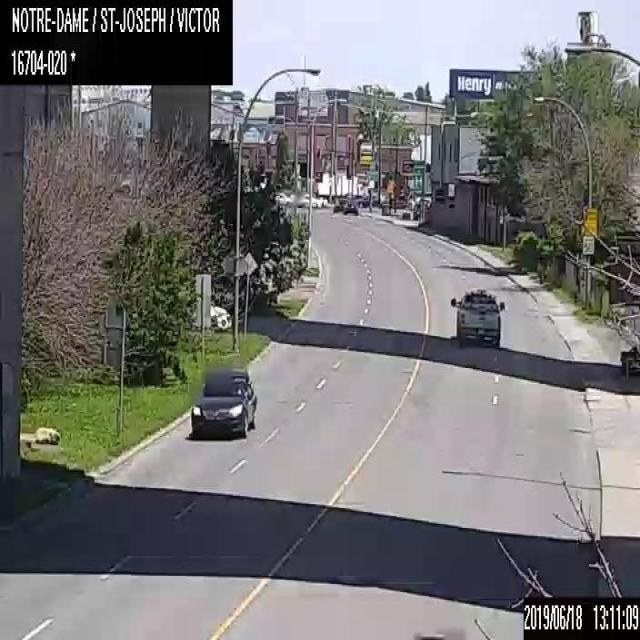construction: (605, 228, 639, 376)
vehicle: (190, 369, 256, 438), (450, 287, 505, 348), (304, 193, 320, 206), (343, 201, 357, 213), (279, 192, 292, 204), (332, 203, 343, 212)
